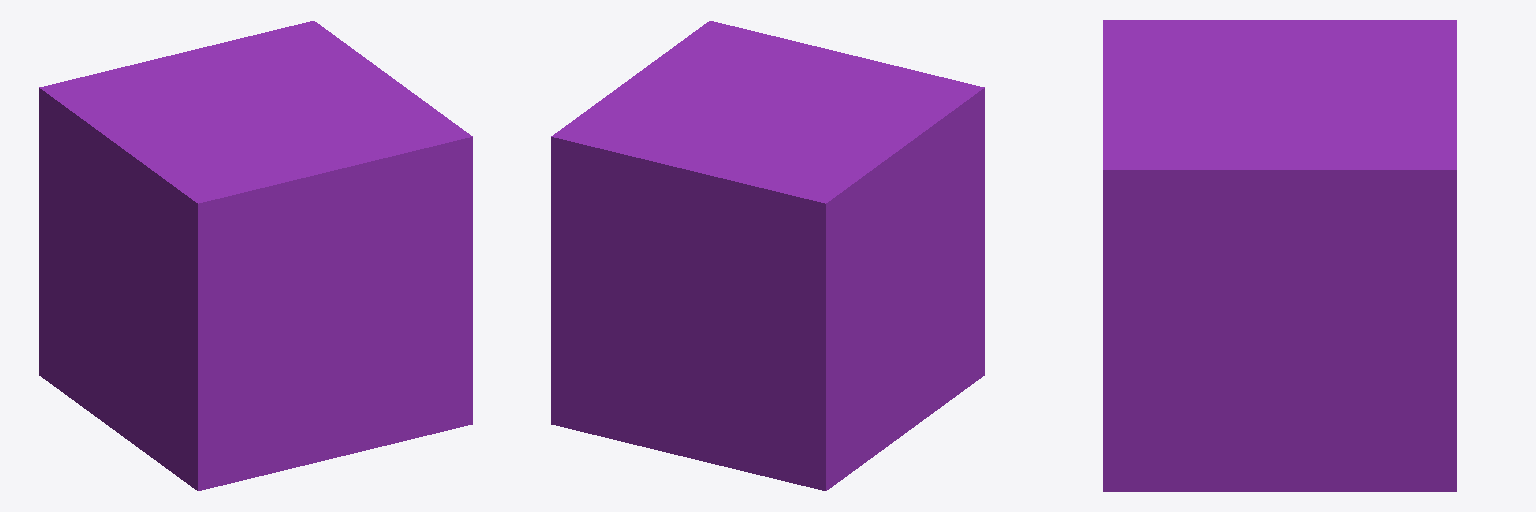
The robot description file, URDF, robot "random_box":
<?xml version='1.0' encoding='UTF-8'?>
<robot name="random_box">
  <link name="box">
    <visual>
      <geometry>
        <box size="0.05 0.05 0.05"/>
      </geometry>
      <material name="color">
        <color rgba="0.6593126493379589 0.28100241262910164 0.7950455186090346 1"/>
      </material>
    </visual>
    <collision>
      <geometry>
        <box size="0.05 0.05 0.05"/>
      </geometry>
    </collision>
  </link>
</robot>

--- What the picture shows (computed from the rendered views, not written in the file) ---
The picture shows the robot from 3 angles, left to right: view 1: azimuth 30°, elevation 25°; view 2: azimuth 150°, elevation 25°; view 3: azimuth 270°, elevation 25°; orthographic projection.
Model random_box with 1 links and 0 joints (none), rooted at box, posed every joint at zero.
Links seen in each view (by area): view 1: box; view 2: box; view 3: box.
Link boxes in pixels (x1,y1,x2,y2): box: [39, 21, 472, 490]; box: [551, 21, 984, 490]; box: [1103, 20, 1456, 491].
Size in the robot's own frame: 0.05 by 0.05 by 0.05 metres.
Geometry: primitives only (box / cylinder / sphere), no mesh files.